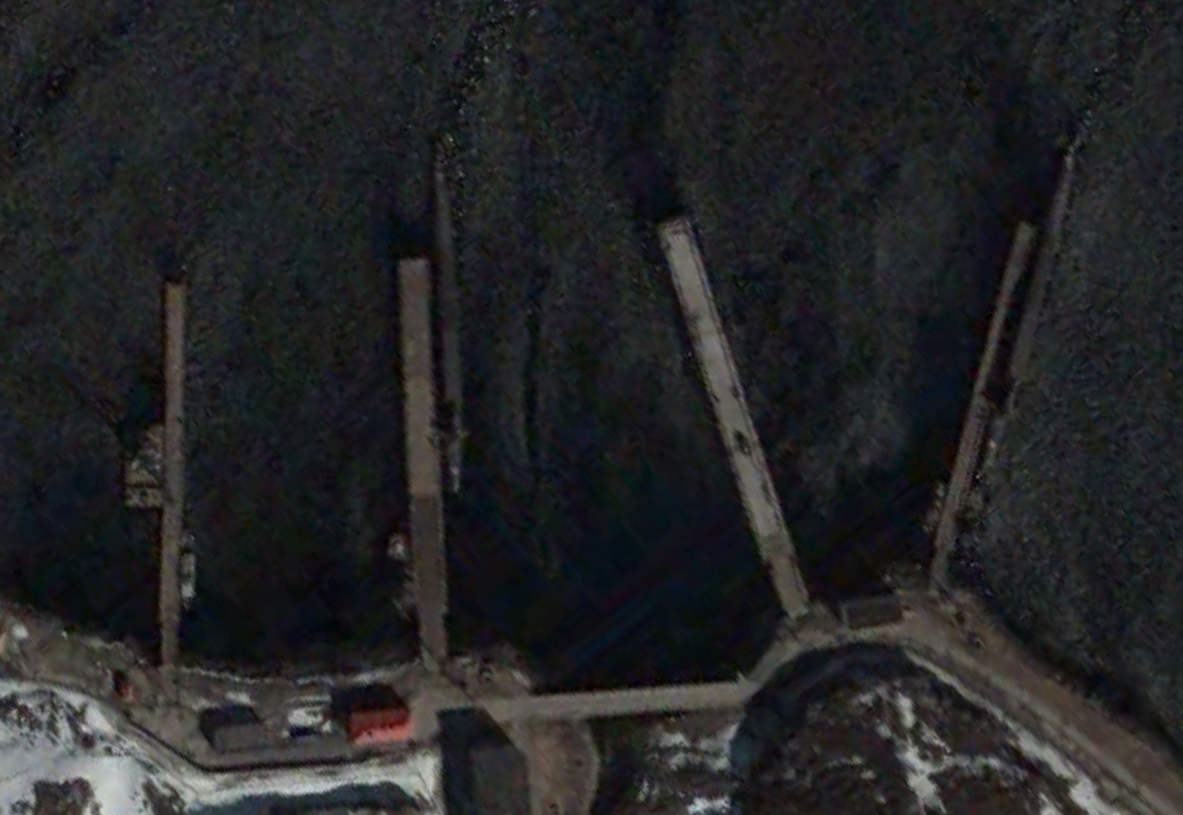merchant ship: (177, 530, 197, 613)
submarine: (972, 134, 1076, 482), (429, 166, 466, 494)
